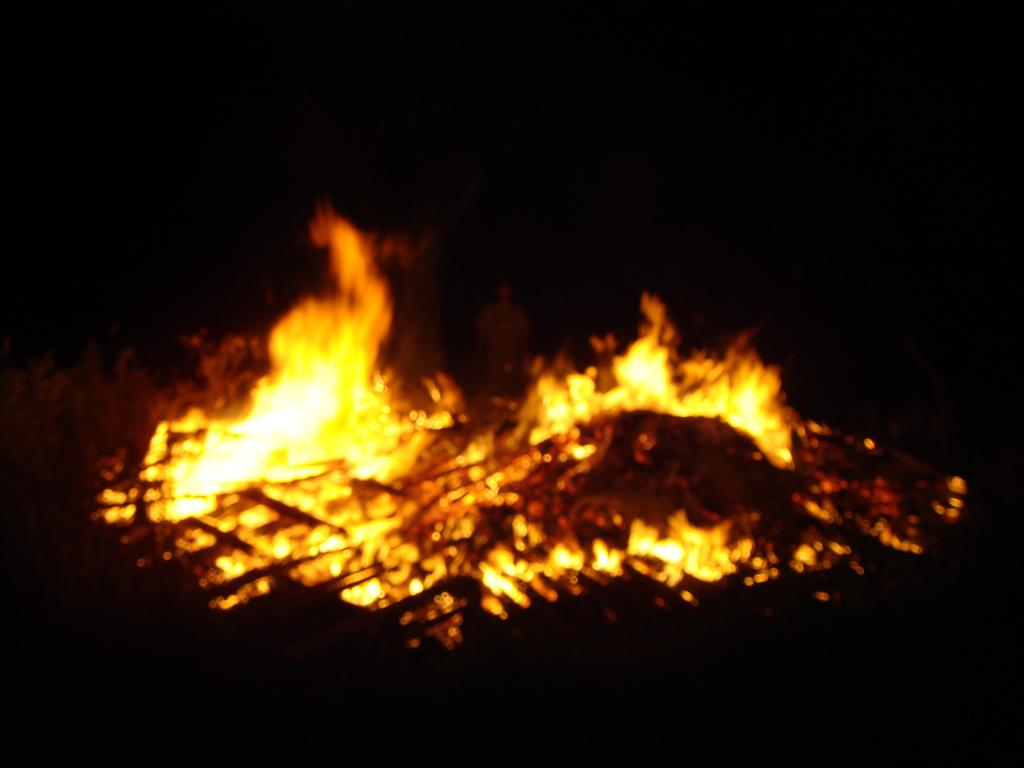fire: (274, 348, 372, 462), (708, 364, 780, 440), (192, 428, 262, 502), (618, 344, 668, 392)
